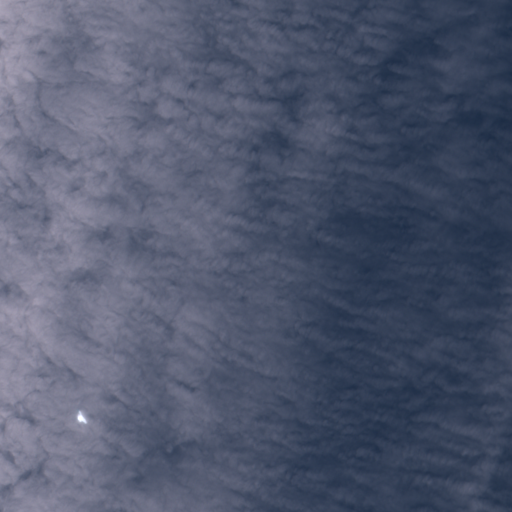Iceberg: (78, 411, 86, 422)
